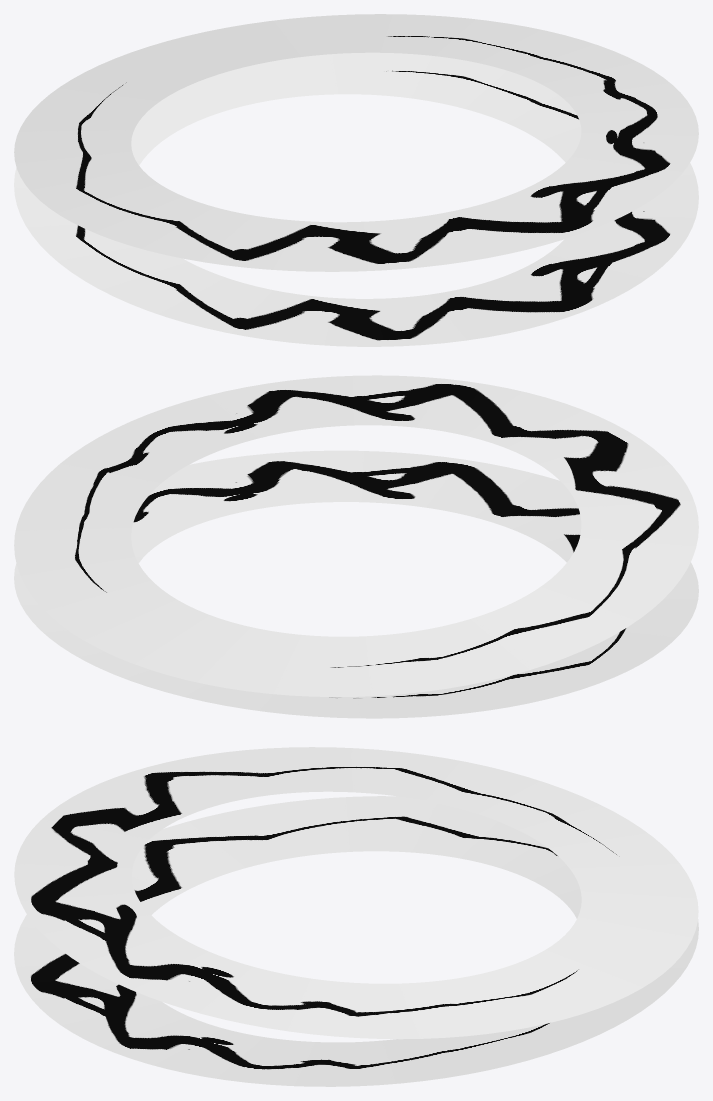
Rendered from HeroSmearLightning3.fbx.
3 views of the same model, one above another, from view 1: azimuth 30°, elevation 25°; view 2: azimuth 150°, elevation 25°; view 3: azimuth 270°, elevation 25° (orthographic).
Visible parts, largest first — view 1: LayerLightning; view 2: LayerLightning; view 3: LayerLightning.
Part boxes in pixels (<box>): LayerLightning: <box>14,14,698,346</box>; LayerLightning: <box>14,375,698,718</box>; LayerLightning: <box>14,747,698,1086</box>.
Size of the model in its own units: 825 by 107 by 825.
1 material, 1 textured.
